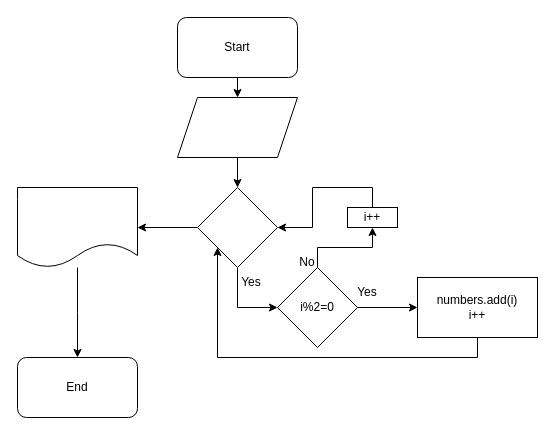
This 555x435 diagram has some shape labels left out. The centre of each missing label's shape, as x and y in pixels:
i<=value: (x=237, y=227)
int value int[] numbers: (x=237, y=127)
print(numbers): (x=77, y=227)
